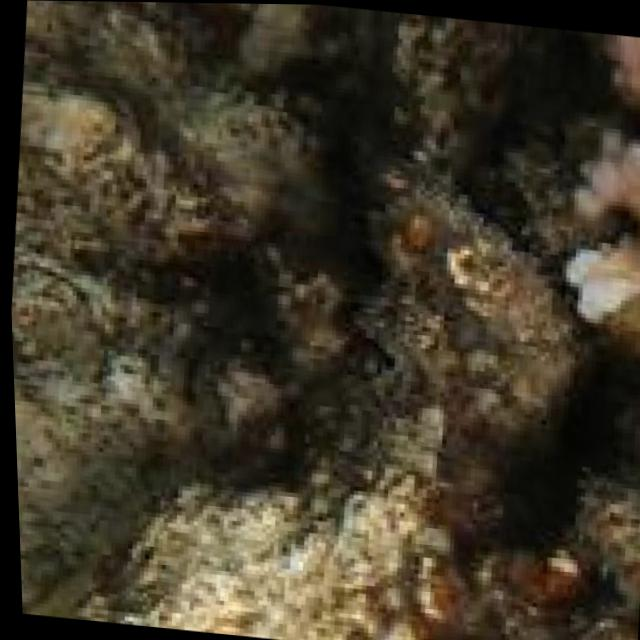Dead Coral: (341, 167, 592, 427)
